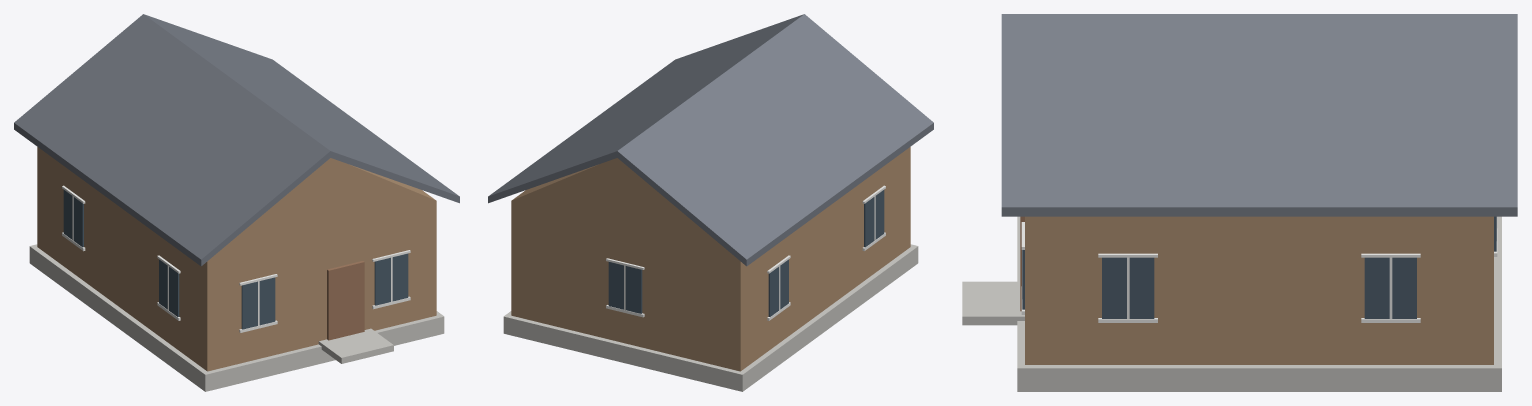
The model's file is boathouse.glb.
3 renders of one model, left to right at view 1: azimuth 30°, elevation 25°; view 2: azimuth 150°, elevation 25°; view 3: azimuth 270°, elevation 25°, orthographic. The views are drawn at different scales.
Visible parts, largest first — view 1: boathouse; view 2: boathouse; view 3: boathouse.
Boxes of the visible parts, x1,y1,x2,y2 form: boathouse: (14,14,459,391); boathouse: (488,14,933,391); boathouse: (962,14,1517,391).
Size of the model in its own units: 7.9 by 6.3 by 10.65.
